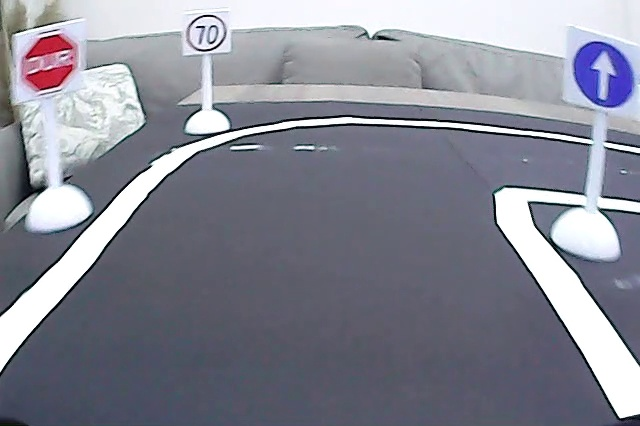speed limit 70: (185, 13, 228, 55)
stop sign: (18, 29, 81, 98)
